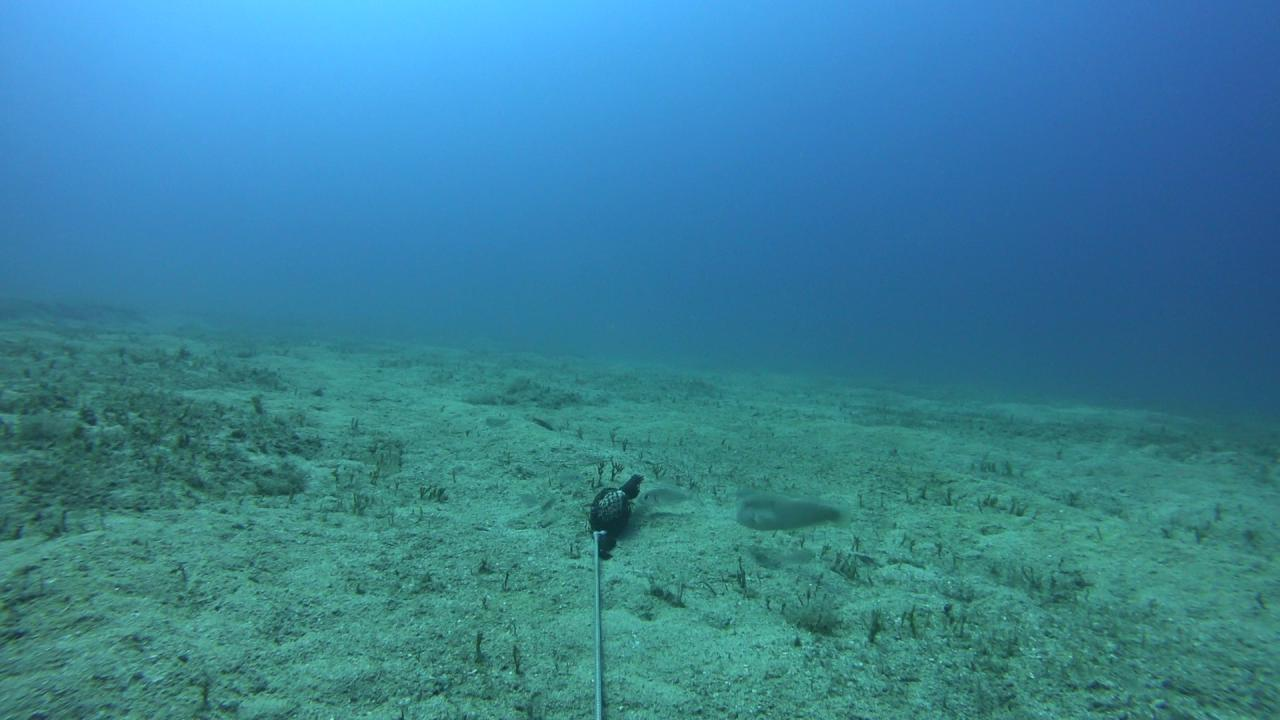pagellus: (638, 487, 704, 508), (548, 470, 585, 483)
raor: (737, 491, 851, 533)
